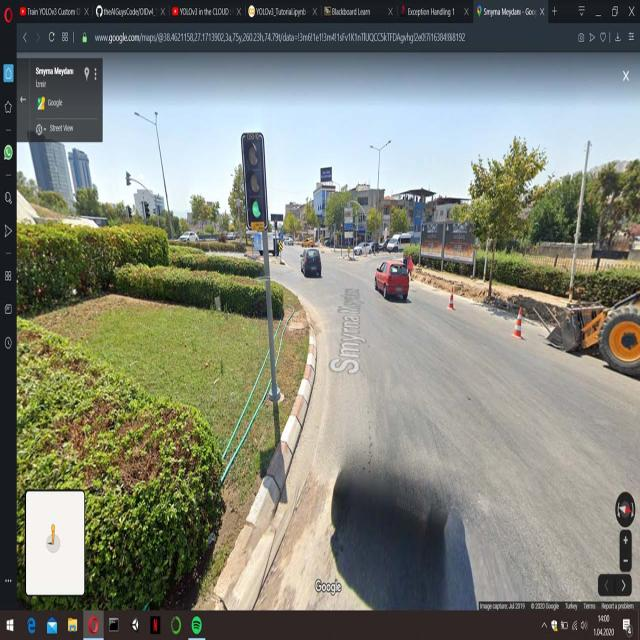yesil: (244, 134, 266, 230)
